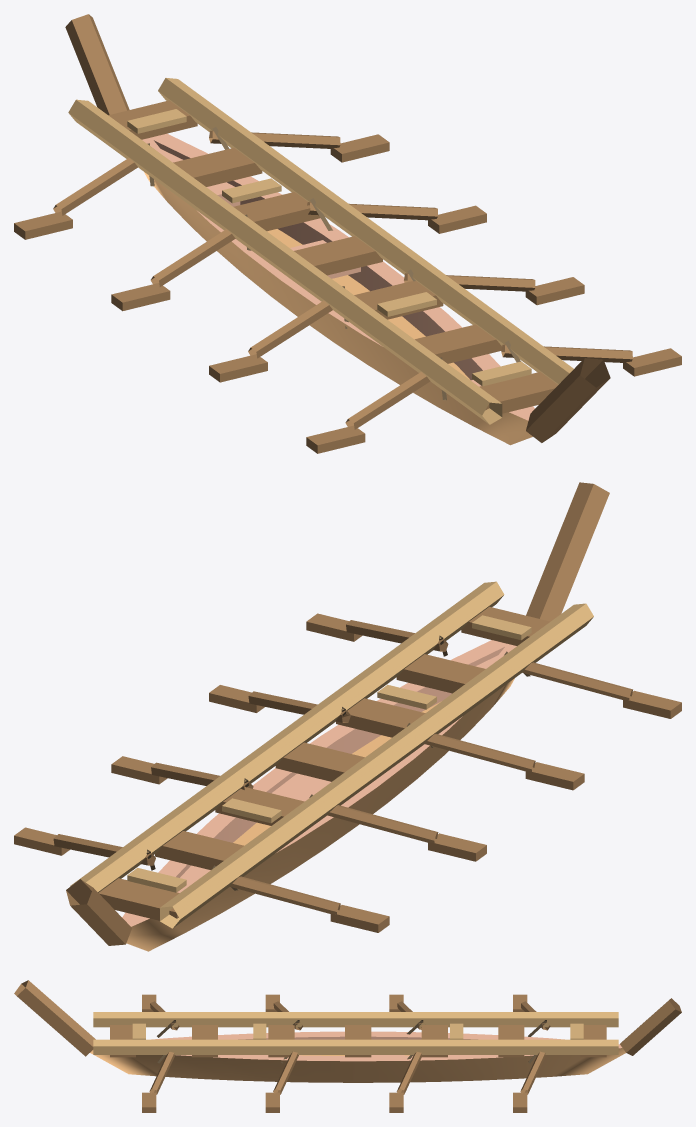
Rendered from pirogue-custom.glb.
3 views of the same model, one above another, from view 1: azimuth 30°, elevation 25°; view 2: azimuth 150°, elevation 25°; view 3: azimuth 270°, elevation 25° (orthographic). The views are drawn at different scales.
Visible parts, largest first — view 1: pirogue wood, pirogue trim, canoe; view 2: pirogue wood, pirogue trim, canoe; view 3: pirogue trim, canoe, pirogue wood, pirogue rope.
Boxes of the visible parts, bbox=[...] form: pirogue wood: bbox=[14, 14, 681, 453]; pirogue trim: bbox=[68, 78, 573, 424]; canoe: bbox=[142, 133, 534, 445]; pirogue wood: bbox=[14, 482, 681, 945]; pirogue trim: bbox=[70, 581, 593, 928]; canoe: bbox=[122, 640, 516, 951]; pirogue trim: bbox=[93, 1012, 618, 1054]; canoe: bbox=[90, 1031, 625, 1082]; pirogue wood: bbox=[14, 980, 681, 1112]; pirogue rope: bbox=[157, 1020, 546, 1063].
Size of the model in its own units: 2.44 by 0.9353 by 6.11.
